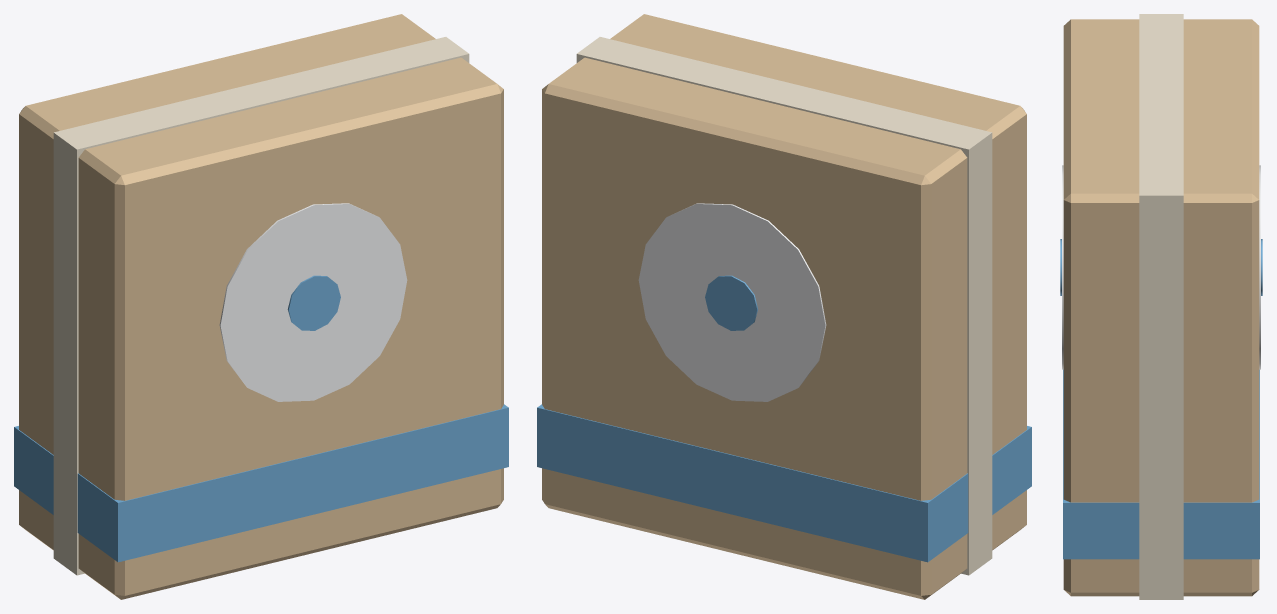
File: ventilador_coluna_caixa_medio.glb
3 renders of one model, left to right at view 1: azimuth 30°, elevation 25°; view 2: azimuth 150°, elevation 25°; view 3: azimuth 270°, elevation 25°, orthographic. The views are drawn at different scales.
Visible parts, largest first — view 1: corpo; view 2: corpo; view 3: corpo.
Part boxes in pixels (x1,y1,x2,y2): corpo: (14,14,508,599); corpo: (537,14,1031,599); corpo: (1060,14,1262,599).
Bounding box in the file's own units: 0.484 × 0.502 × 0.228.
